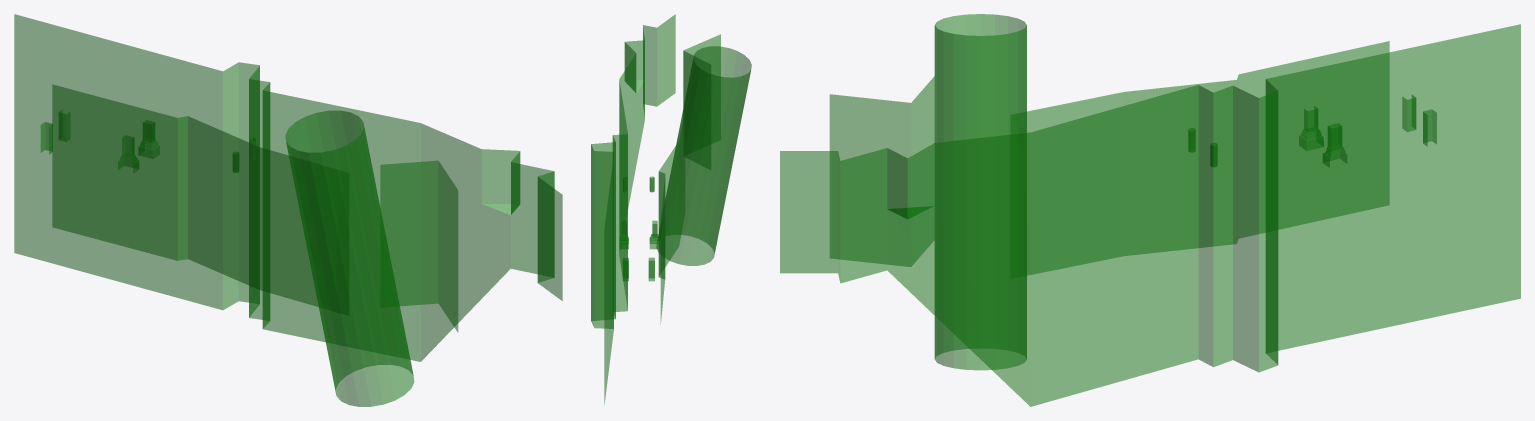
File: Wall02.obj
The picture shows the model from 3 angles, left to right: view 1: azimuth 30°, elevation 25°; view 2: azimuth 150°, elevation 25°; view 3: azimuth 270°, elevation 25°; orthographic projection. The views are drawn at different scales.
Bounding box in the file's own units: 140 × 142 × 294.
